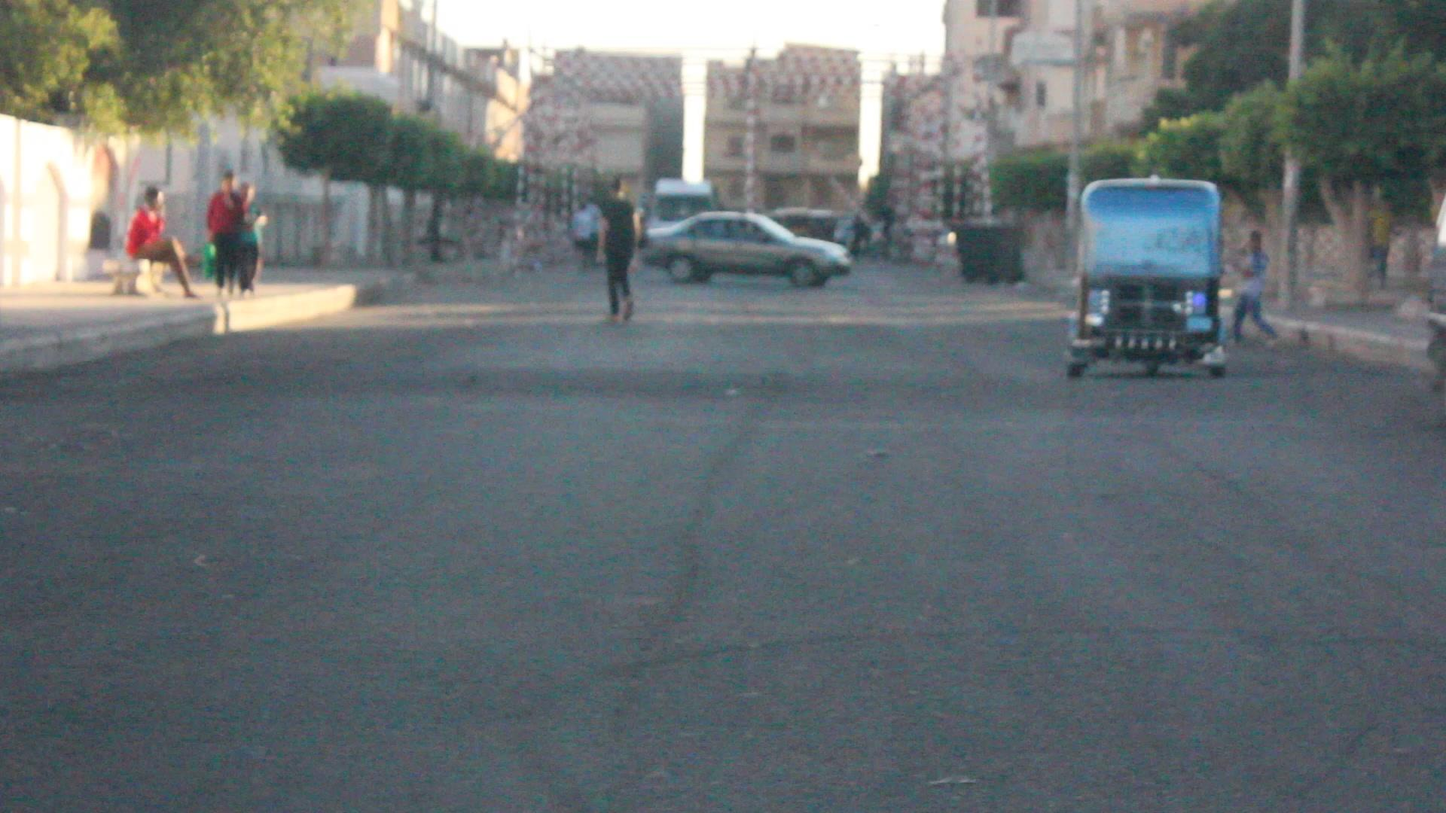Bump: (162, 343, 1446, 422)
